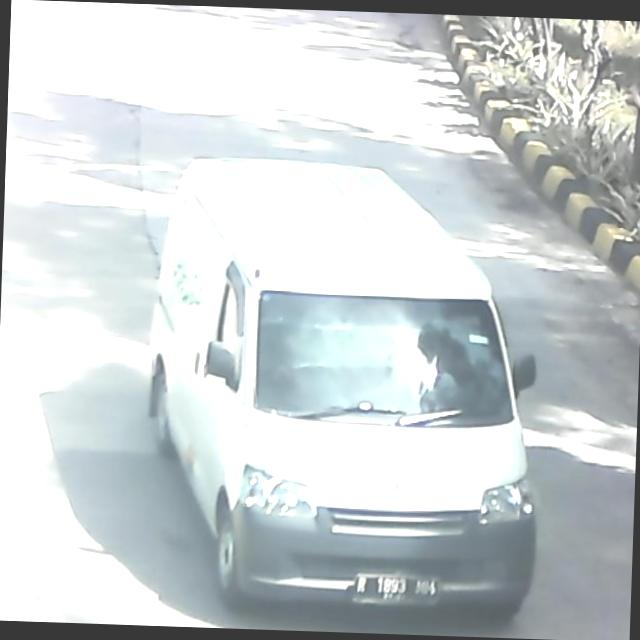plate: (355, 568, 442, 606)
